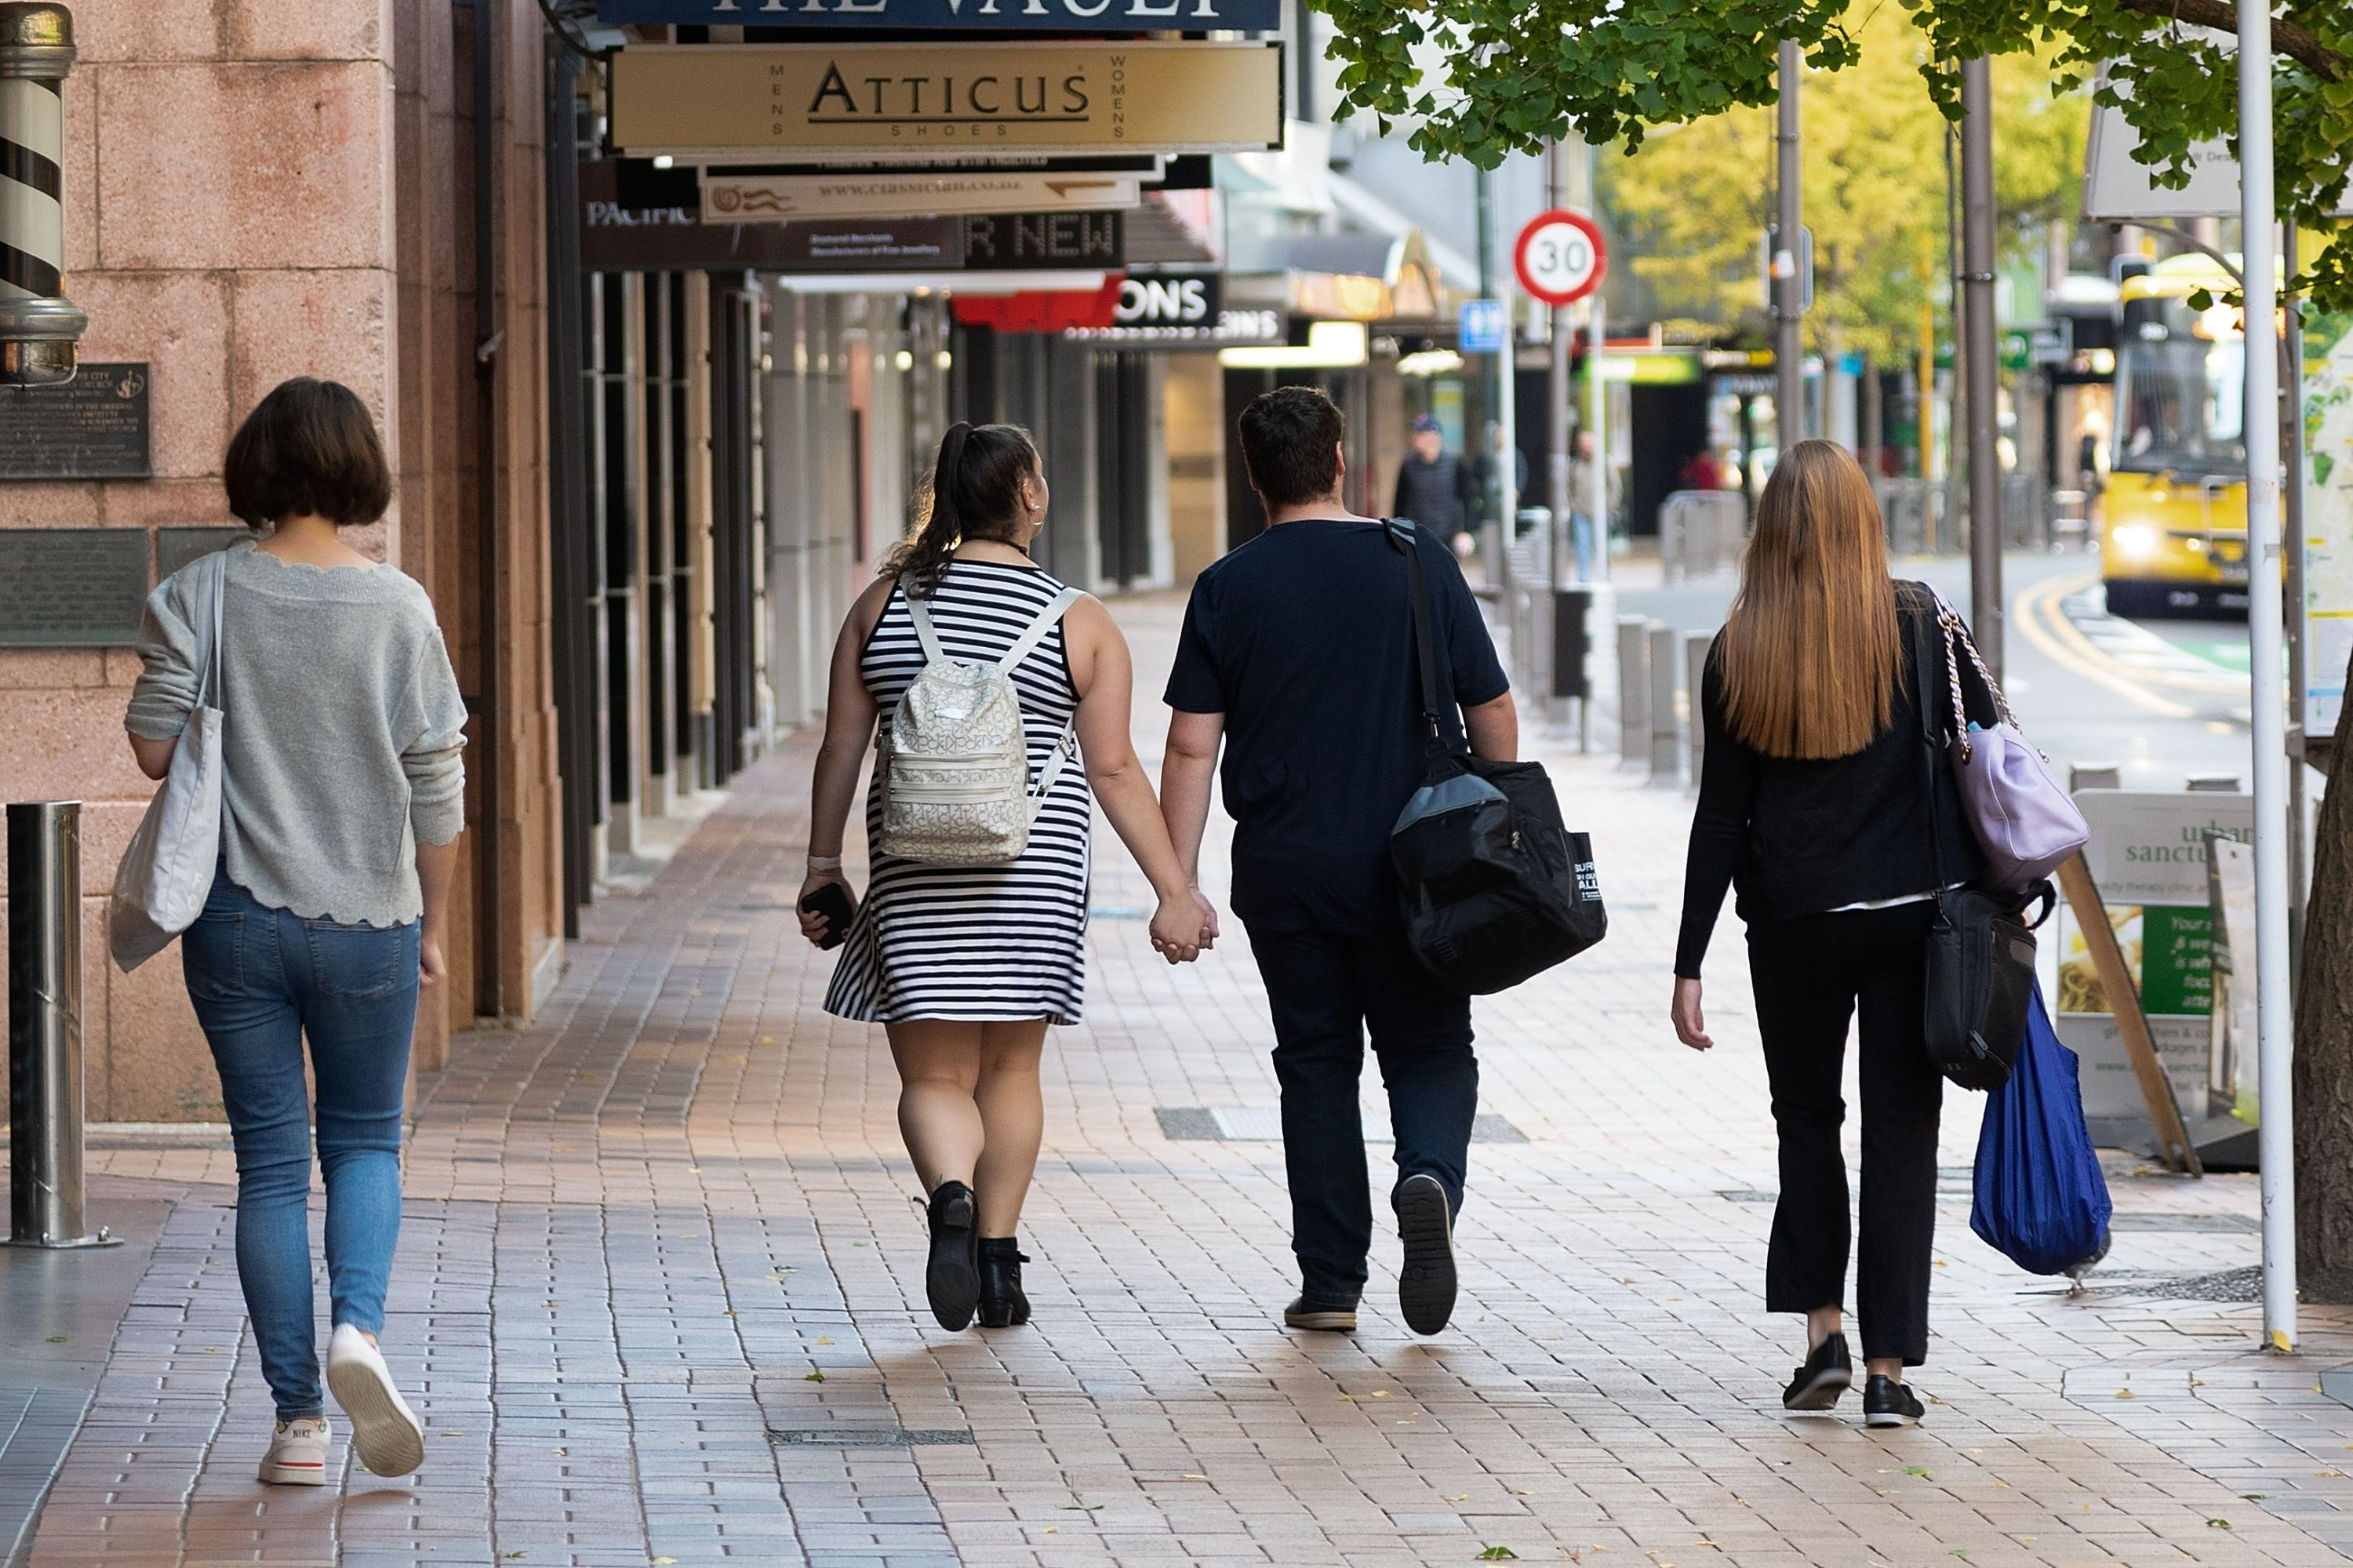person: (1647, 427, 2137, 1451), (85, 357, 515, 1510), (1143, 366, 1627, 1367), (765, 394, 1215, 1355)
